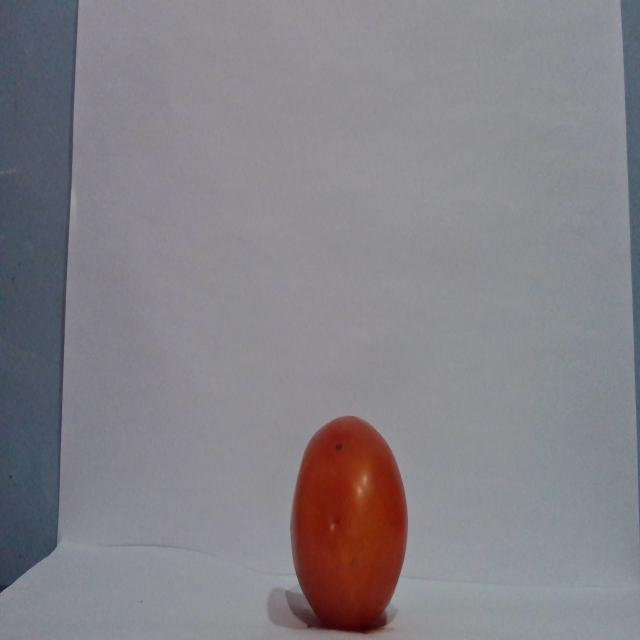Red: (288, 413, 409, 631)
